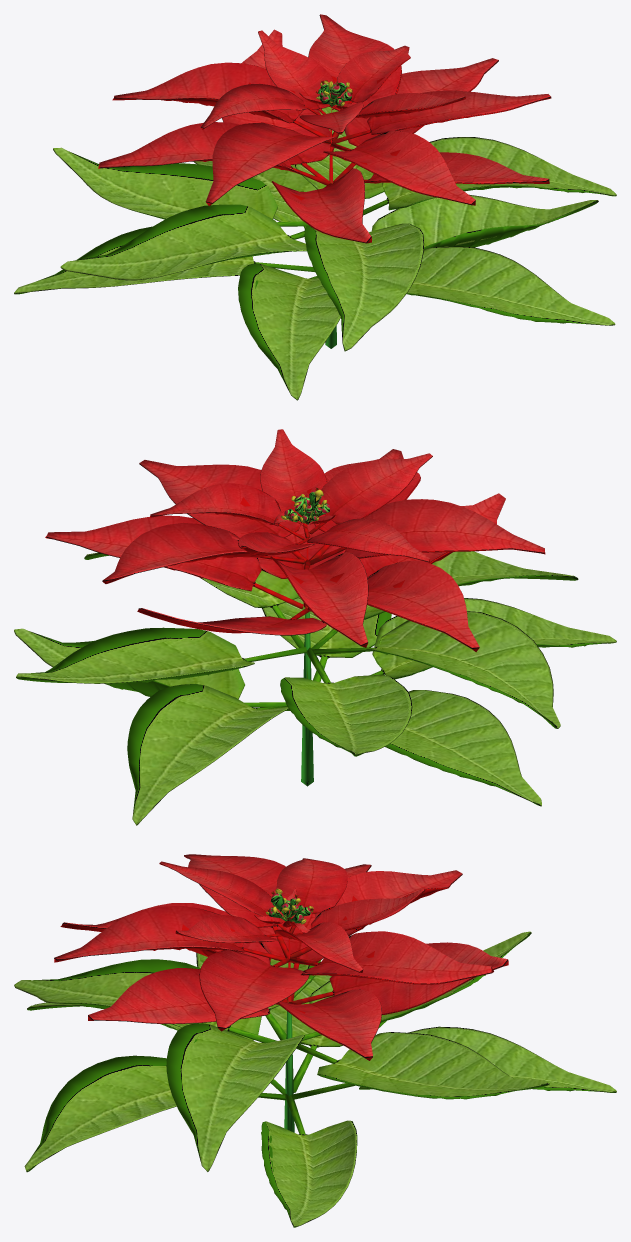
The model's file is poinsettia.fbx.
3 renders of one model, top to bottom at view 1: azimuth 30°, elevation 25°; view 2: azimuth 150°, elevation 25°; view 3: azimuth 270°, elevation 25°, orthographic. The views are drawn at different scales.
Parts seen in each view (by area): view 1: Poinsetta; view 2: Poinsetta; view 3: Poinsetta.
Boxes of the visible parts, left/top/right/bottom form: Poinsetta: left=14, top=14, right=616, bottom=400; Poinsetta: left=14, top=429, right=616, bottom=825; Poinsetta: left=14, top=854, right=616, bottom=1227.
Bounding box in the file's own units: 246 × 119 × 231.
1 material, 1 textured.
